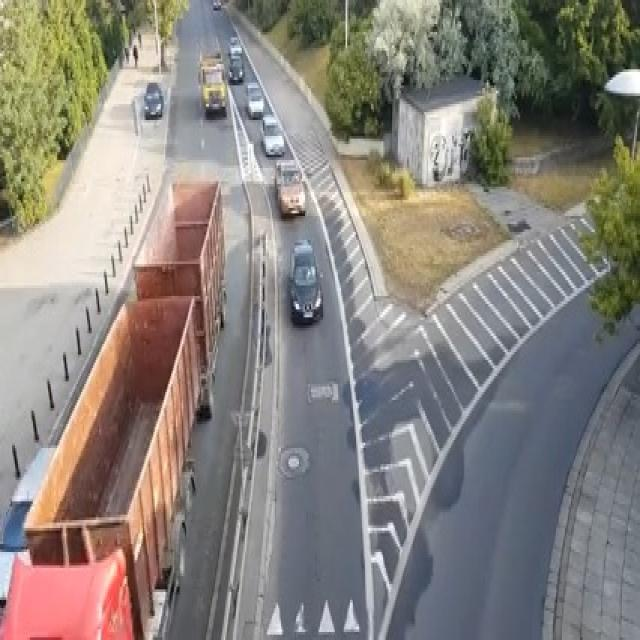bus: (0, 173, 227, 638)
car: (287, 237, 323, 323), (273, 157, 305, 216), (260, 114, 284, 154), (142, 80, 164, 117), (245, 80, 263, 117), (227, 51, 243, 82), (212, 0, 221, 8)
truck: (197, 48, 227, 115)
